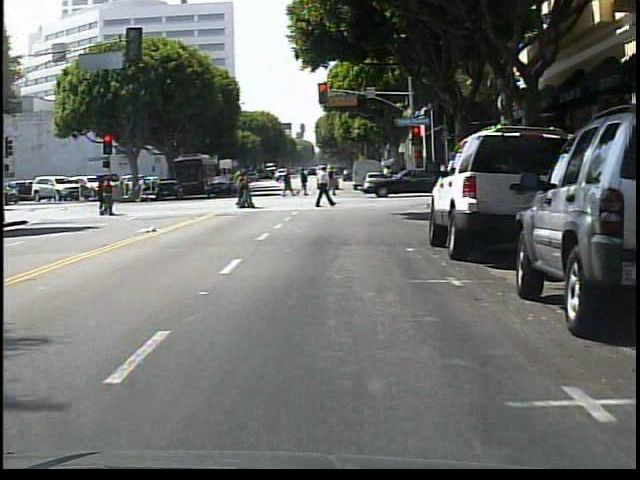person: (315, 162, 339, 214), (135, 172, 154, 203), (328, 167, 341, 196)
